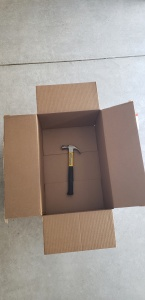innerbox: (38, 114, 111, 210)
outerbox: (5, 85, 145, 254)
product: (59, 142, 85, 196)
